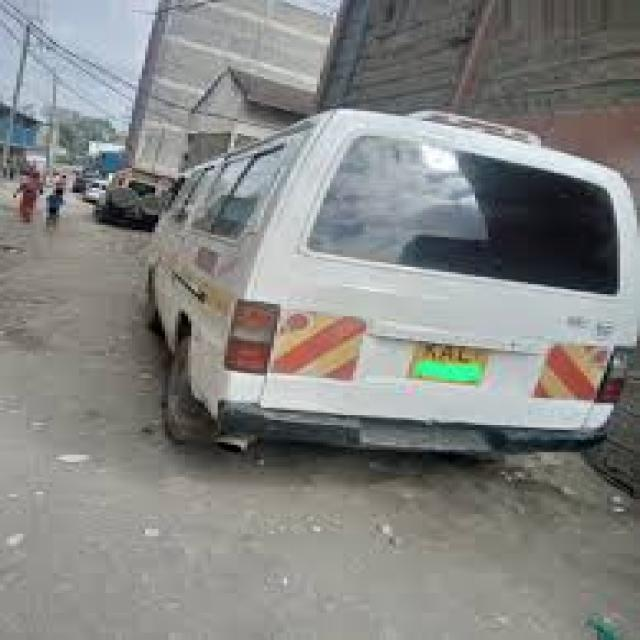matatu: (102, 54, 640, 504)
